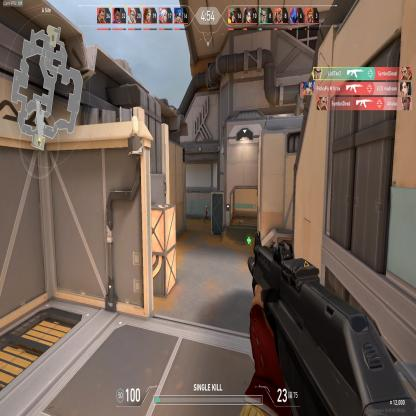enemy: (203, 204, 210, 223)
